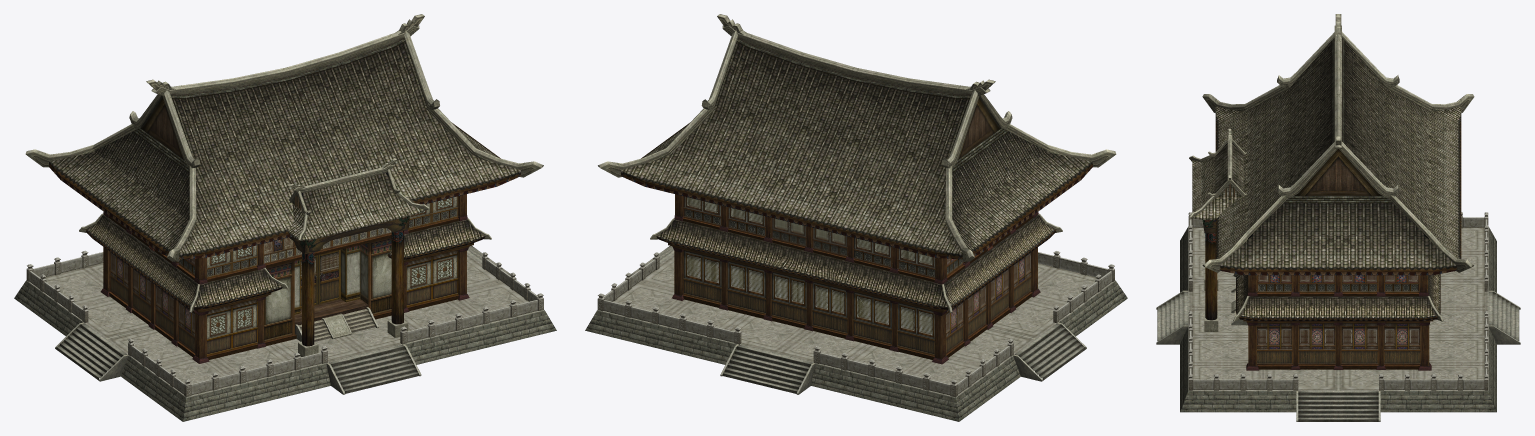
Rendered from b1-010-bank.fbx.
The picture shows the model from 3 angles, left to right: view 1: azimuth 30°, elevation 25°; view 2: azimuth 150°, elevation 25°; view 3: azimuth 270°, elevation 25°; orthographic projection. The views are drawn at different scales.
Visible parts, largest first — view 1: b1-010-bank-01, b1-010-bank-03, b1-010-bank-04, b1-010-bank-02; view 2: b1-010-bank-01, b1-010-bank-03, b1-010-bank-02, b1-010-bank-04; view 3: b1-010-bank-01, b1-010-bank-03, b1-010-bank-02, b1-010-bank-04.
Part boxes in pixels (x1,y1,x2,y2): b1-010-bank-01: (49, 37, 520, 363); b1-010-bank-03: (14, 216, 556, 421); b1-010-bank-04: (25, 14, 543, 341); b1-010-bank-02: (26, 196, 543, 396); b1-010-bank-01: (620, 37, 1092, 364); b1-010-bank-03: (585, 215, 1127, 421); b1-010-bank-02: (597, 196, 1114, 397); b1-010-bank-04: (598, 14, 1116, 312); b1-010-bank-01: (1192, 38, 1461, 370); b1-010-bank-03: (1156, 226, 1520, 421); b1-010-bank-02: (1188, 212, 1488, 390); b1-010-bank-04: (1189, 14, 1474, 321).
Bounding box in the file's own units: 24.99 × 15.27 × 20.19.
